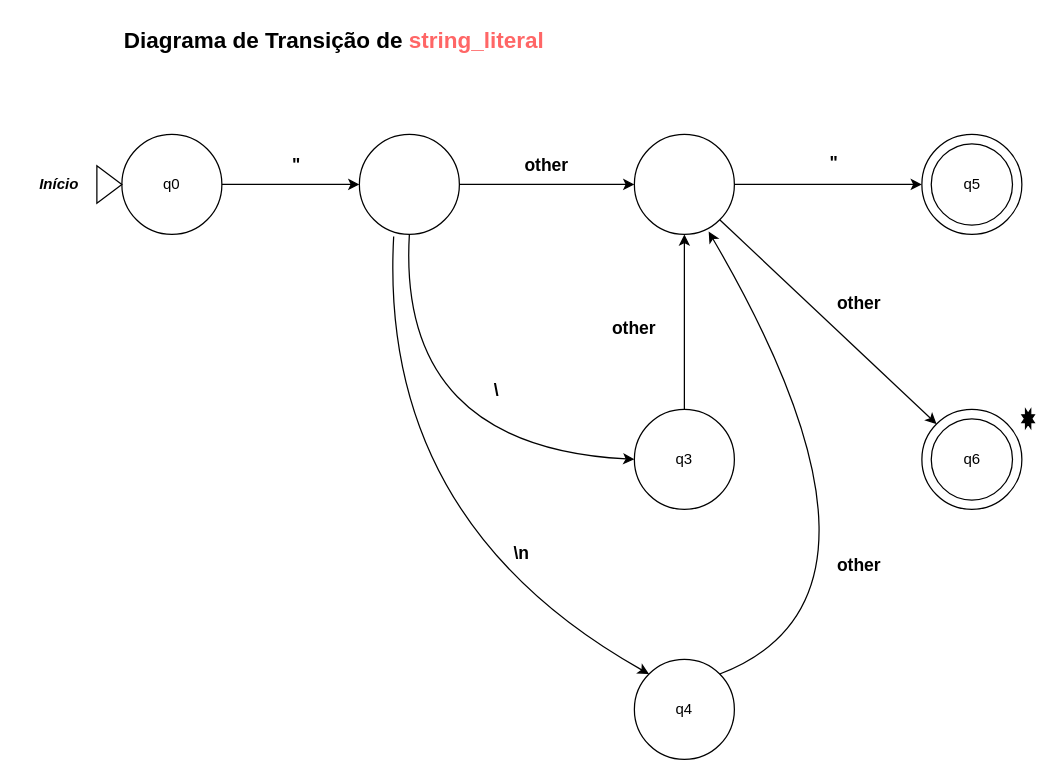
The diagram is 1056 pixels wide and 781 high, and some of its shapes have lost their labels. The centre of each missing label's shape, as x and y in pixels:
q1: [408,183]
q2: [683,183]
